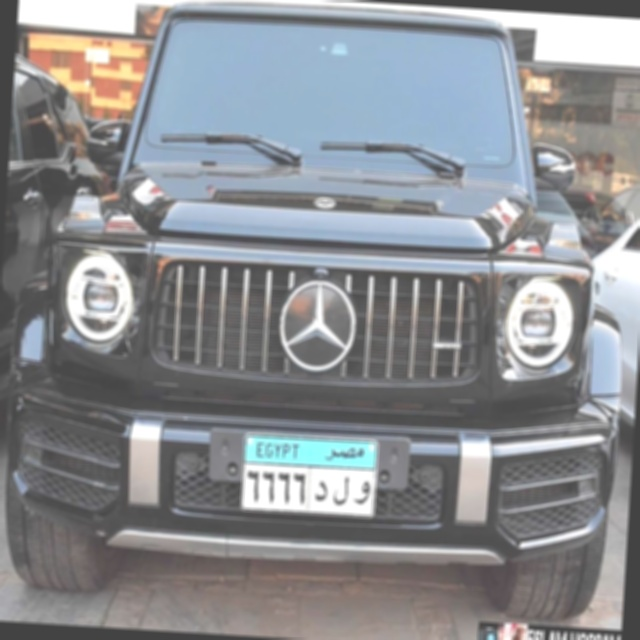License Plate: (237, 428, 381, 520)
